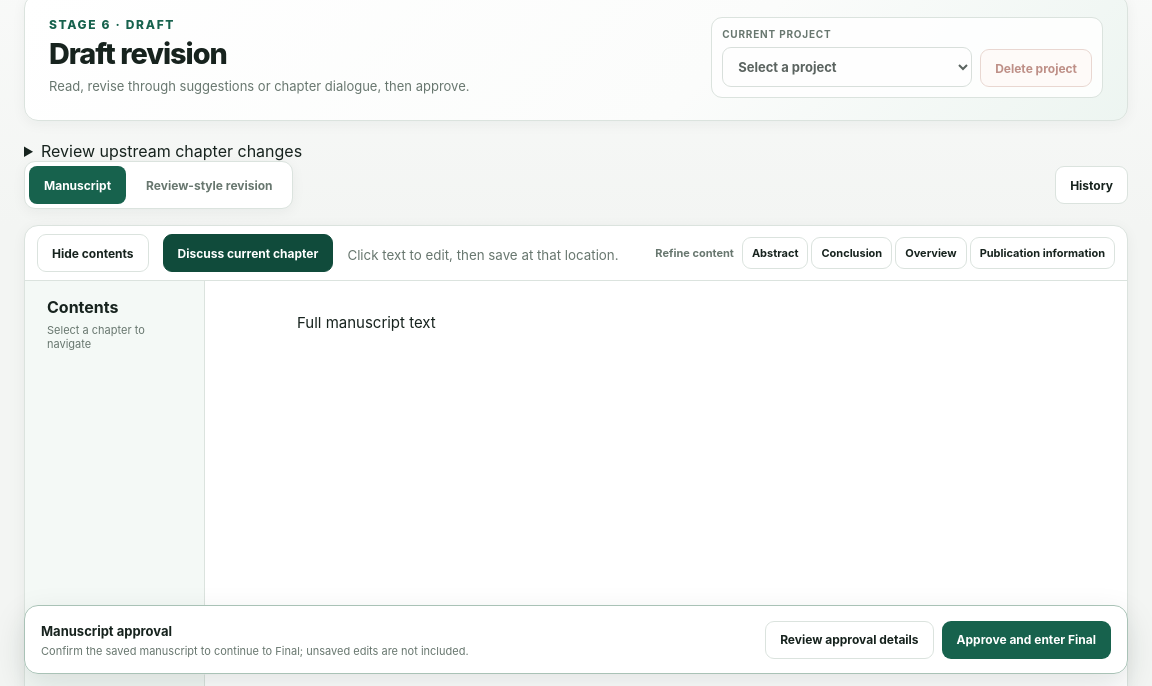
Scenario: confirms the saved manuscript from the bottom bar and enters Final once
Click the button "Approve and enter Final" at (1026, 639), box [942,620,1111,658]
(page scrolled)
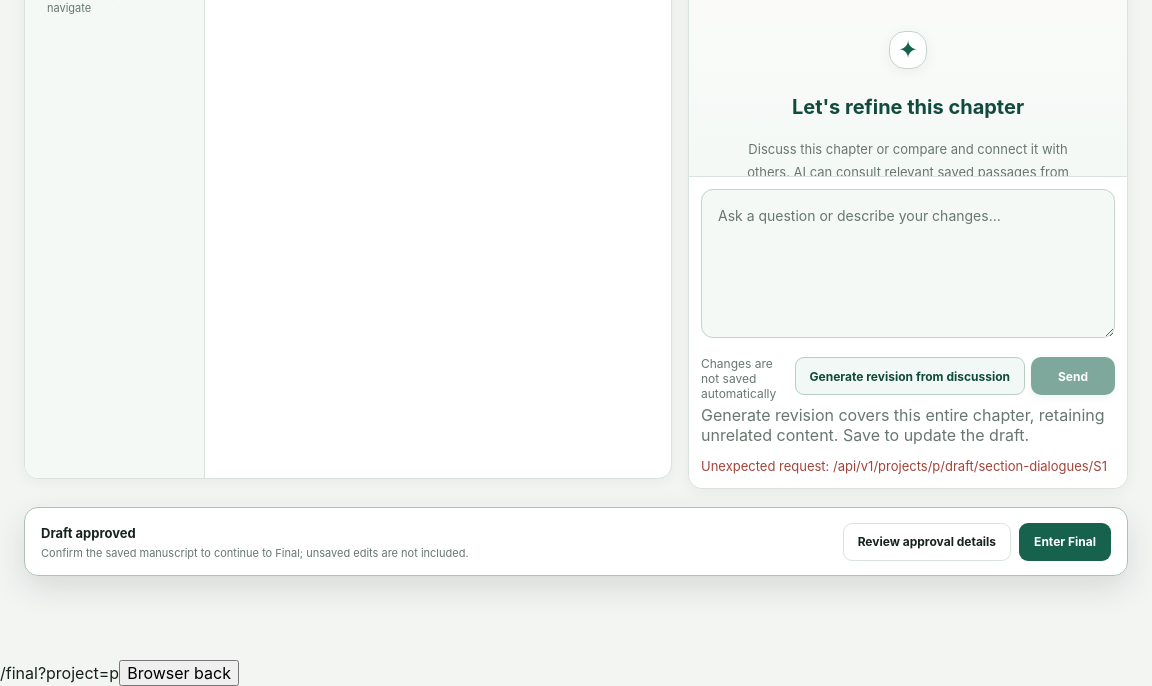
Now the text with test id "route" reads "/final?project=p", box [0,663,119,683]
